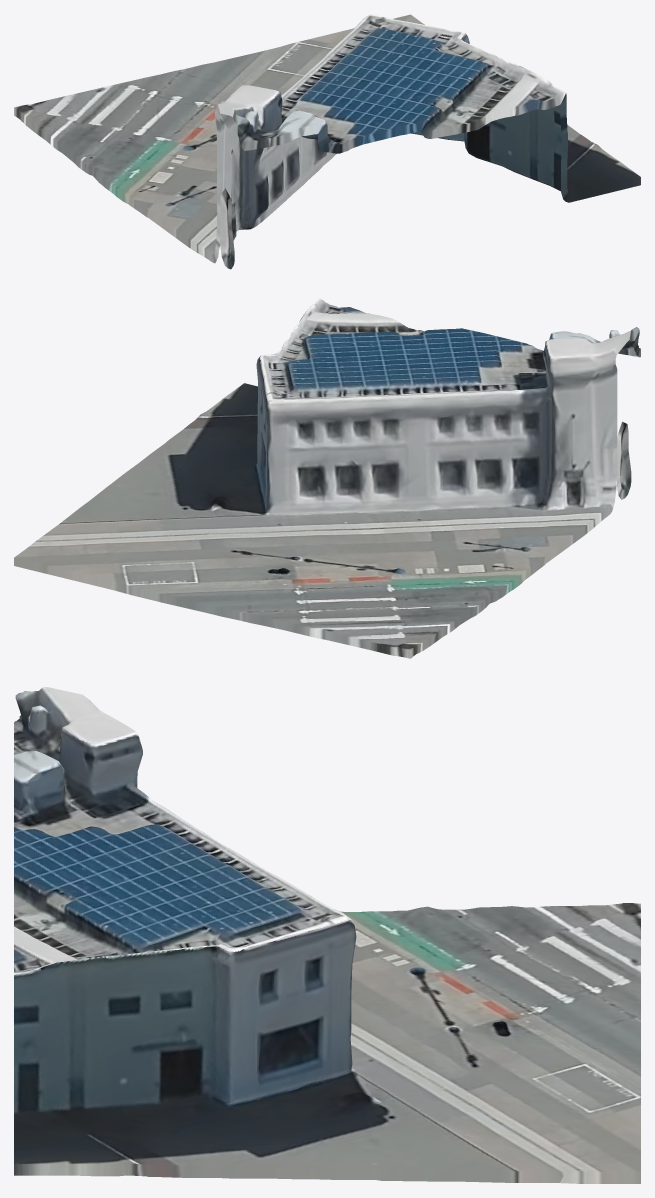
Rendered from z20-167775-405200-h0-yup-uvflip-v3-world.glb.
3 views of the same model, one above another, from view 1: azimuth 30°, elevation 25°; view 2: azimuth 150°, elevation 25°; view 3: azimuth 270°, elevation 25° (orthographic). The views are drawn at different scales.
Size of the model in its own units: 30.16 by 12.6 by 30.32.
1 material, 1 textured.
